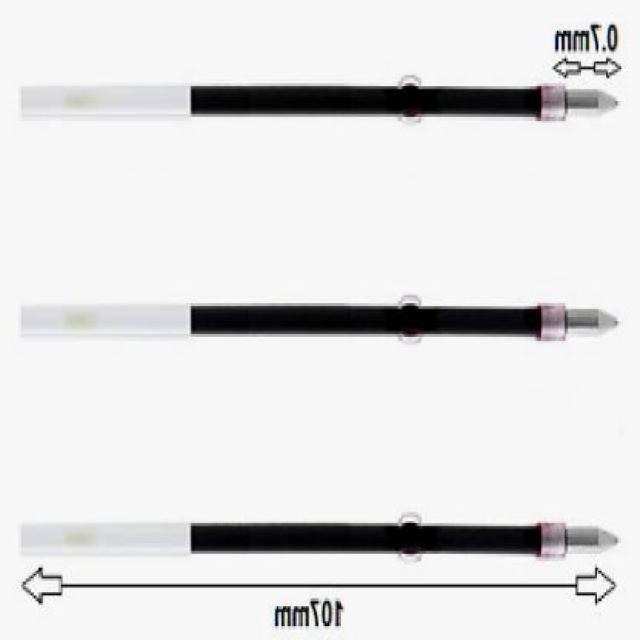pen: (17, 298, 614, 346), (21, 515, 617, 563), (21, 85, 622, 118)
